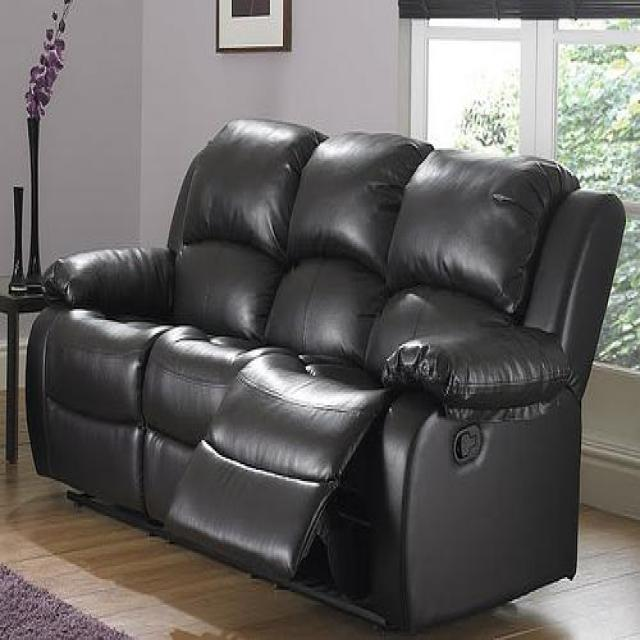sofa: (23, 115, 627, 637)
